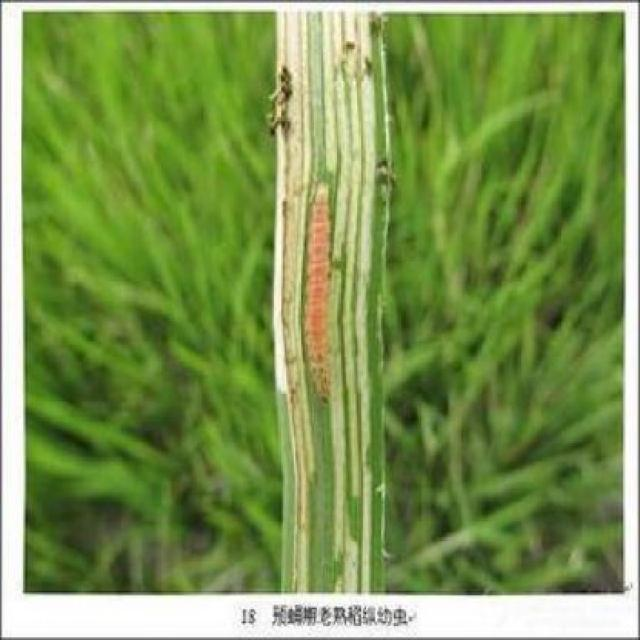leaf-folder: (296, 173, 347, 424)
